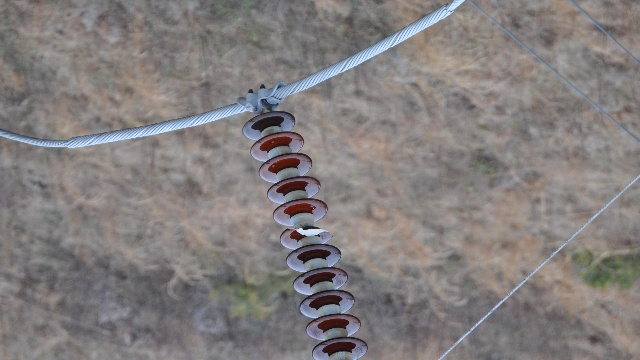broken_local: (283, 225, 333, 240)
insulator_unspecified: (242, 112, 368, 358)
